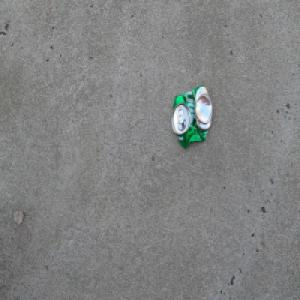SodaCan: (170, 83, 213, 149)
